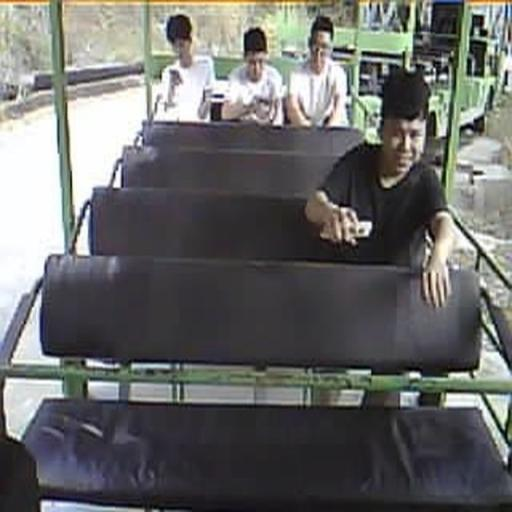persona: (304, 66, 457, 309), (288, 15, 350, 128), (154, 13, 216, 121), (221, 27, 286, 127)
